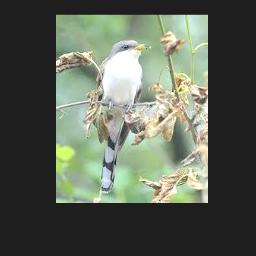Cuckoo: (97, 39, 151, 194)
